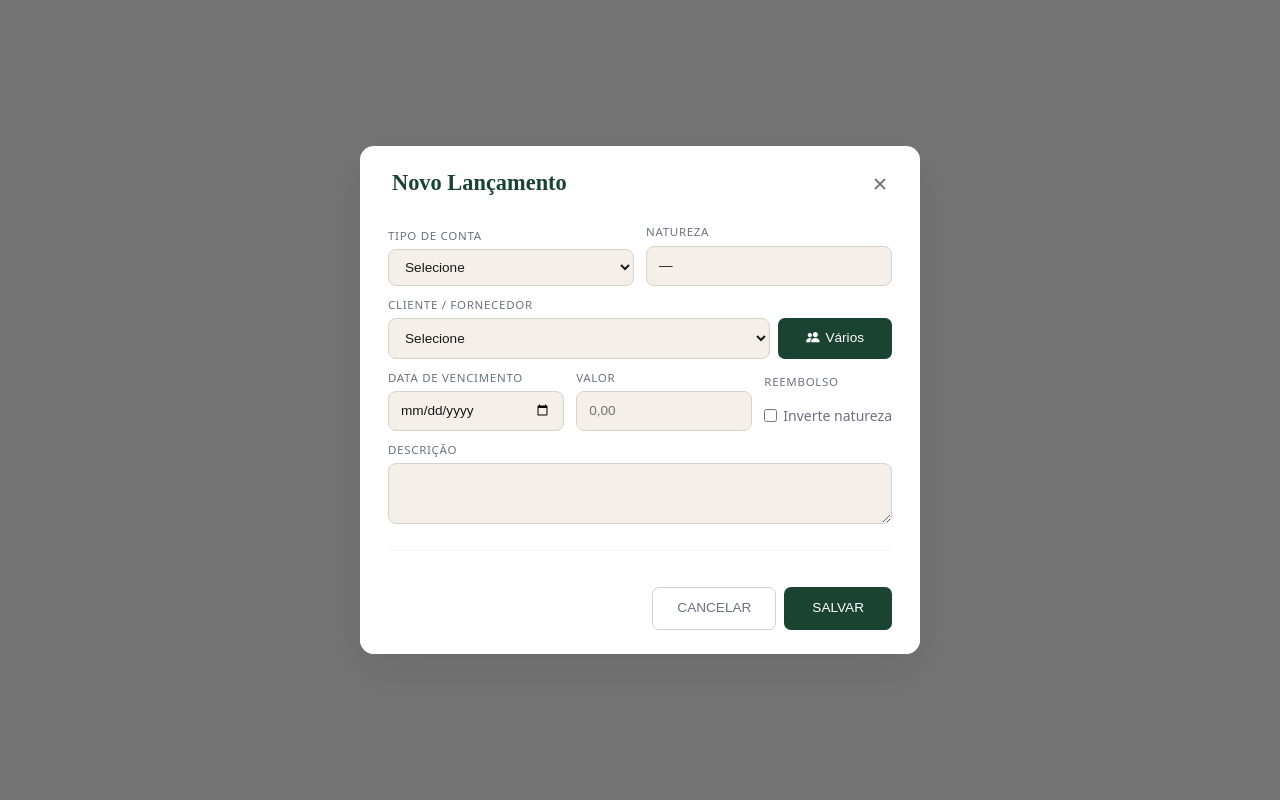
Scenario: LancamentoModal — seletor de clifor em massa › abrir o seletor pelo botão "Vários" mostra a lista de clientes/fornecedores
This screenshot has width=1280, height=800.
Expected: the heading "Novo Lançamento" is shown, [392,170,567,197]
Click the button "Vários". click: (835, 338)
box: [778,318,892,359]
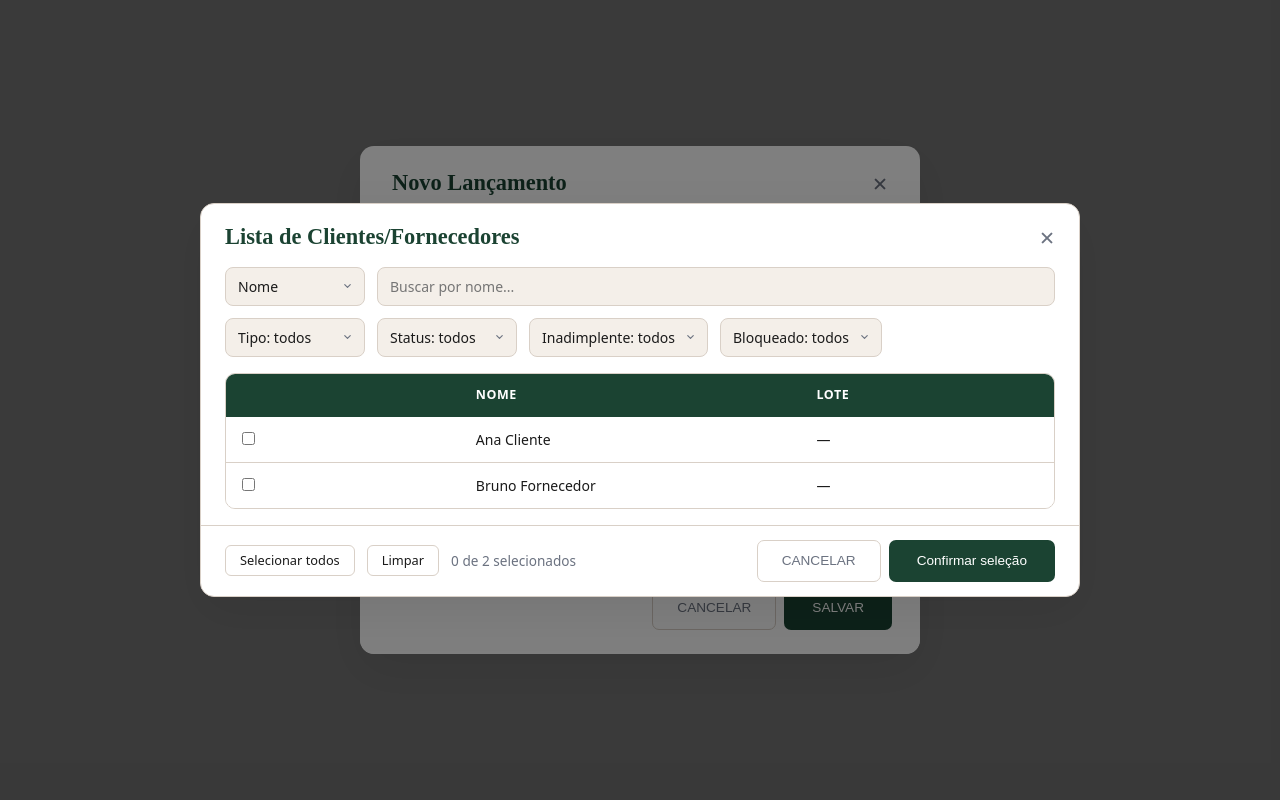
Result: the heading "Lista de Clientes/Fornecedores" is shown at [225,224,519,251]
